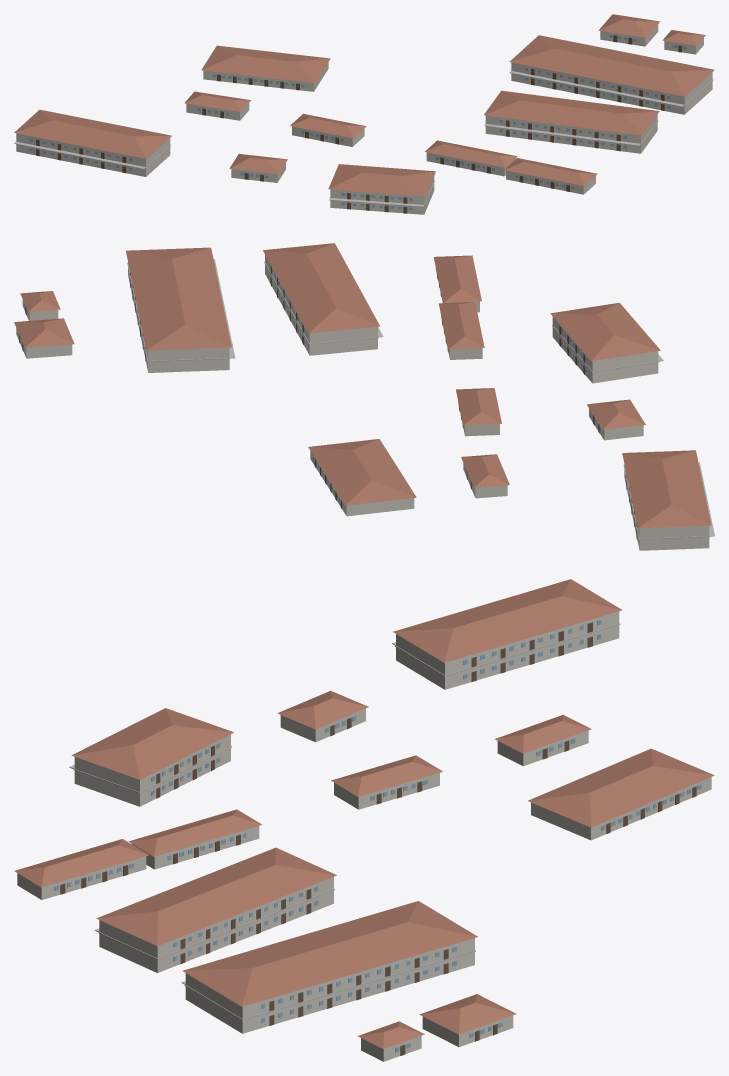
Rendered from sos_technical_school.glb.
3 views of the same model, one above another, from view 1: azimuth 30°, elevation 25°; view 2: azimuth 150°, elevation 25°; view 3: azimuth 270°, elevation 25° (orthographic). The views are drawn at different scales.
Parts seen in each view (by area): view 1: J_Block_G+1_14classes, I_Block_G+1_12classes, A_Block_G+1_10classes, F_PinBlock_G+1_8classes, B_Block_G_6classes, H_Block_G_4classes, G_Block_G_4classes, D_Block_G_3classes, K_Block_G_2classes, C_Block_G_2classes, E_Block_G_2classes, L_Block_G_1classes; view 2: J_Block_G+1_14classes, I_Block_G+1_12classes, A_Block_G+1_10classes, F_PinBlock_G+1_8classes, B_Block_G_6classes, G_Block_G_4classes, K_Block_G_2classes, H_Block_G_4classes, D_Block_G_3classes, E_Block_G_2classes, C_Block_G_2classes, L_Block_G_1classes; view 3: J_Block_G+1_14classes, I_Block_G+1_12classes, A_Block_G+1_10classes, F_PinBlock_G+1_8classes, B_Block_G_6classes, H_Block_G_4classes, G_Block_G_4classes, D_Block_G_3classes, K_Block_G_2classes, C_Block_G_2classes, E_Block_G_2classes, L_Block_G_1classes.
Boxes of the visible parts, x1,y1,x2,y2 form: J_Block_G+1_14classes: [509, 35, 714, 114]; I_Block_G+1_12classes: [484, 90, 659, 153]; A_Block_G+1_10classes: [14, 109, 171, 176]; F_PinBlock_G+1_8classes: [328, 164, 435, 214]; B_Block_G_6classes: [201, 45, 330, 91]; H_Block_G_4classes: [504, 158, 597, 194]; G_Block_G_4classes: [425, 140, 517, 176]; D_Block_G_3classes: [290, 113, 366, 146]; K_Block_G_2classes: [598, 14, 660, 46]; C_Block_G_2classes: [184, 91, 250, 120]; E_Block_G_2classes: [229, 154, 287, 182]; L_Block_G_1classes: [662, 30, 705, 54]; J_Block_G+1_14classes: [126, 247, 235, 372]; I_Block_G+1_12classes: [263, 243, 383, 355]; A_Block_G+1_10classes: [622, 450, 714, 550]; F_PinBlock_G+1_8classes: [550, 302, 663, 383]; B_Block_G_6classes: [308, 439, 416, 516]; G_Block_G_4classes: [438, 302, 484, 359]; K_Block_G_2classes: [14, 318, 74, 358]; H_Block_G_4classes: [433, 255, 481, 312]; D_Block_G_3classes: [456, 388, 501, 436]; E_Block_G_2classes: [587, 399, 645, 440]; C_Block_G_2classes: [461, 454, 509, 498]; L_Block_G_1classes: [20, 291, 60, 320]; J_Block_G+1_14classes: [181, 901, 477, 1033]; I_Block_G+1_12classes: [94, 847, 336, 972]; A_Block_G+1_10classes: [392, 579, 622, 689]; F_PinBlock_G+1_8classes: [69, 708, 233, 806]; B_Block_G_6classes: [528, 748, 714, 840]; H_Block_G_4classes: [14, 839, 149, 899]; G_Block_G_4classes: [128, 809, 261, 869]; D_Block_G_3classes: [331, 755, 442, 809]; K_Block_G_2classes: [419, 994, 516, 1046]; C_Block_G_2classes: [494, 714, 591, 766]; E_Block_G_2classes: [277, 690, 368, 742]; L_Block_G_1classes: [357, 1021, 424, 1061].
Size of what is drawn, in the model's own units: 221 by 8.4 by 143.
